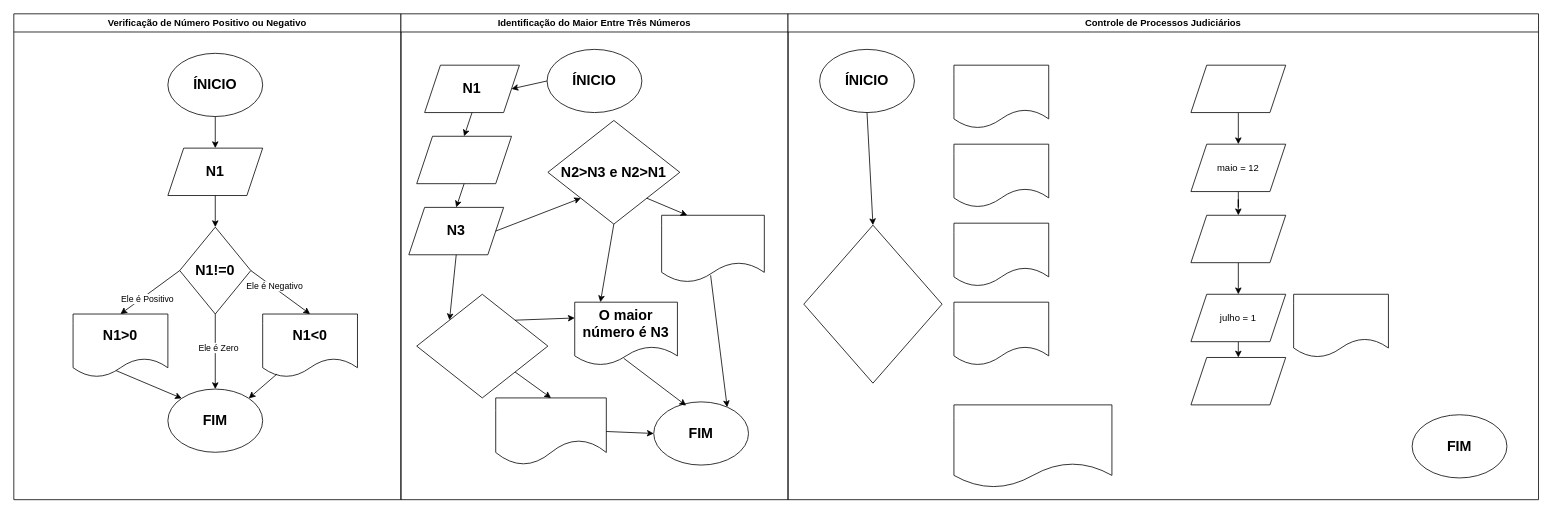
The diagram is 1552 pixels wide and 514 high, and some of its shapes have lost their labels. Here are the shapes that lost their labels. From the top down, the centre of each, then its label:
pixel 1238 88: abril = 5
pixel 464 159: N2
pixel 712 248: O maior número é N2
pixel 1238 238: junho = 21
pixel 872 303: mes<4 ou mes>9
pixel 482 345: N1>N2 e N1>N3
pixel 1238 381: setembro = 6
pixel 550 431: O maior número é N1
pixel 1032 446: mes invalido
